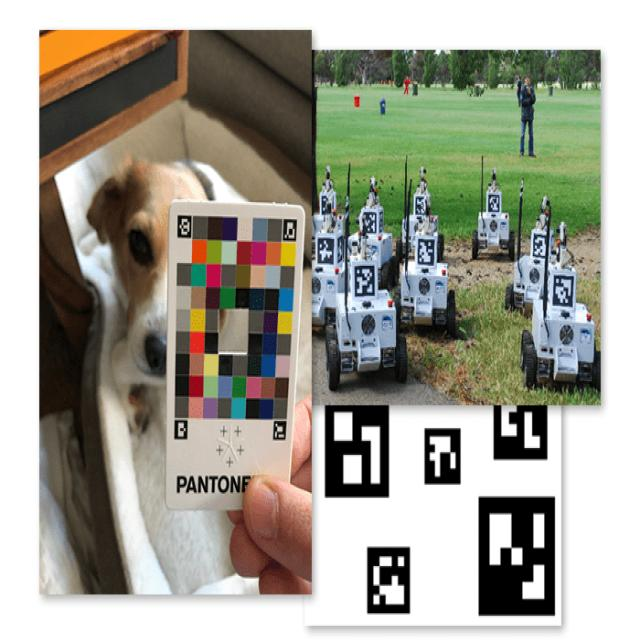aruco: (476, 484, 559, 617), (316, 396, 403, 499), (406, 405, 465, 501), (362, 540, 421, 618)
